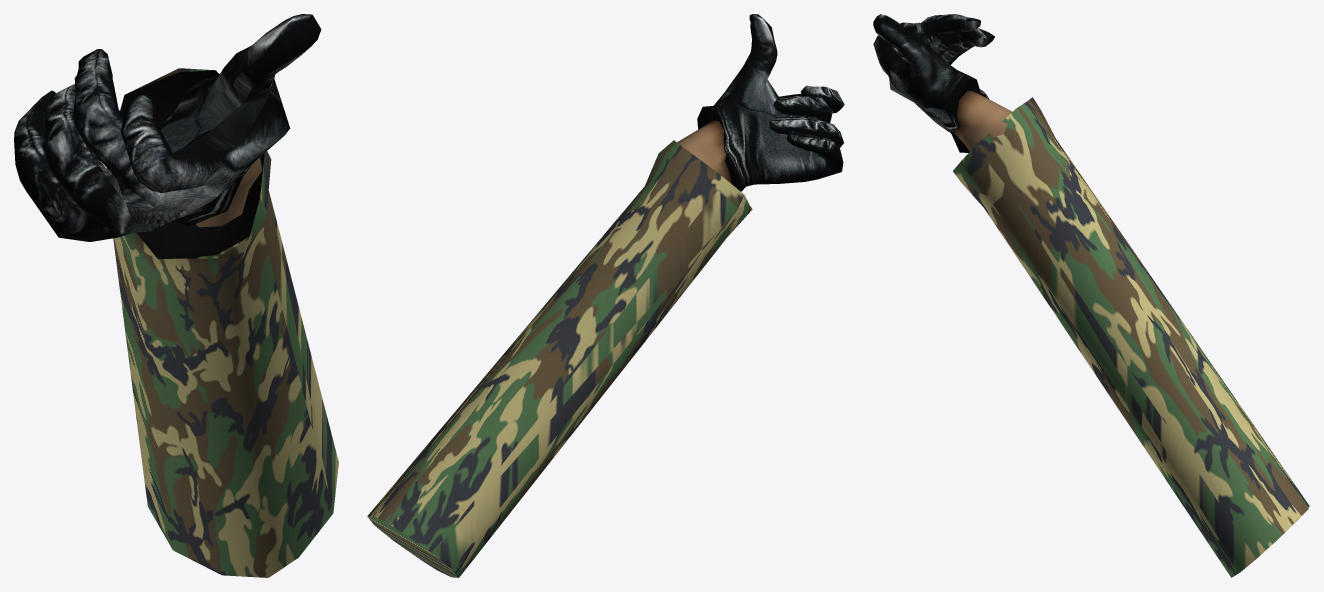
Rendered from hand3.FBX.
3 renders of one model, left to right at view 1: azimuth 30°, elevation 25°; view 2: azimuth 150°, elevation 25°; view 3: azimuth 270°, elevation 25°, orthographic. The views are drawn at different scales.
Parts seen in each view (by area): view 1: hand3; view 2: hand3; view 3: hand3.
Boxes of the visible parts, bbox=[...] form: hand3: bbox=[14, 14, 338, 577]; hand3: bbox=[367, 14, 844, 577]; hand3: bbox=[873, 14, 1309, 577].
Size of the model in its own units: 24.85 by 28.34 by 34.74.
1 material, 1 textured.
